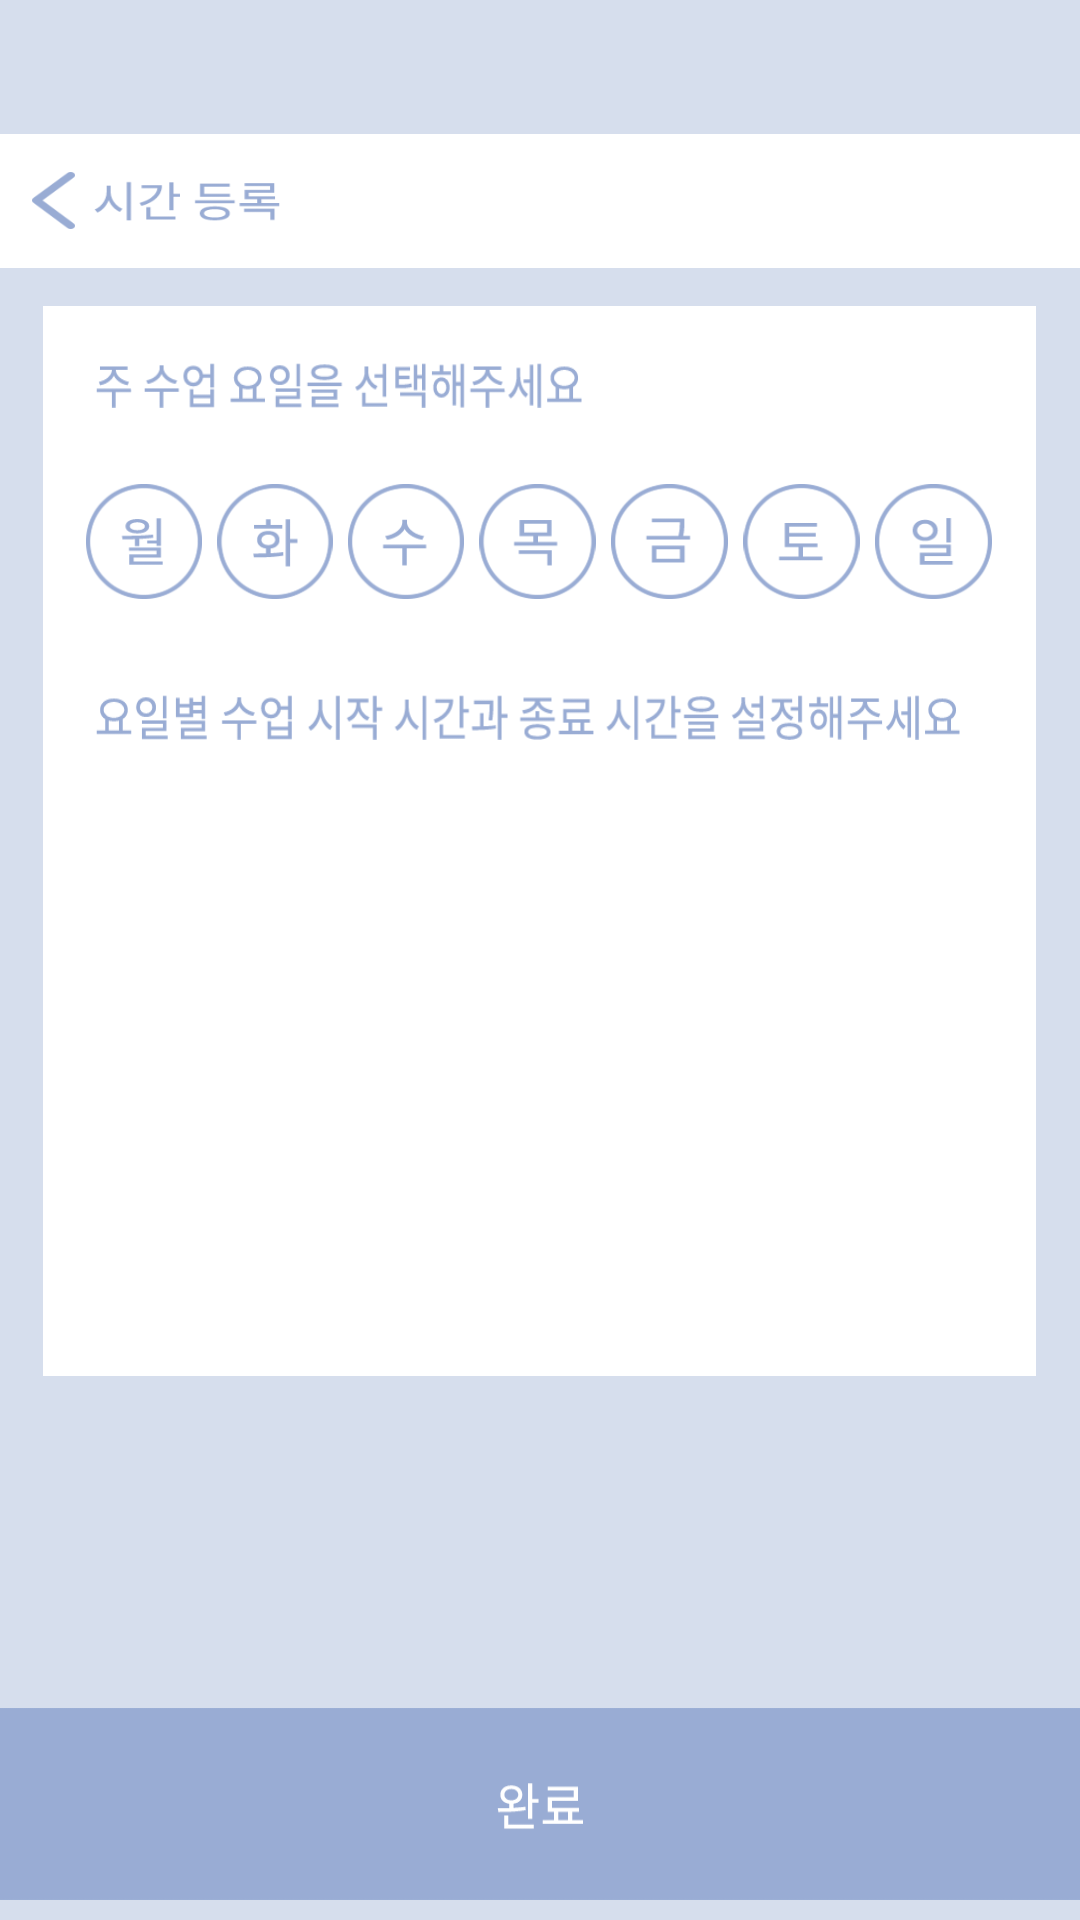

Where icons sit on this 1080w x 1920h app screen, as (x1, y1, x2, y2):
back: (32, 172, 75, 229)
